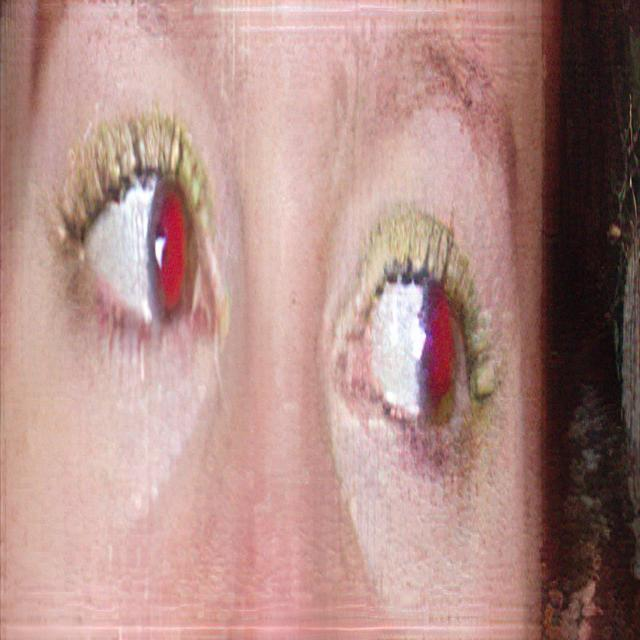reflexo-normal: (361, 213, 488, 485), (89, 122, 211, 368)
